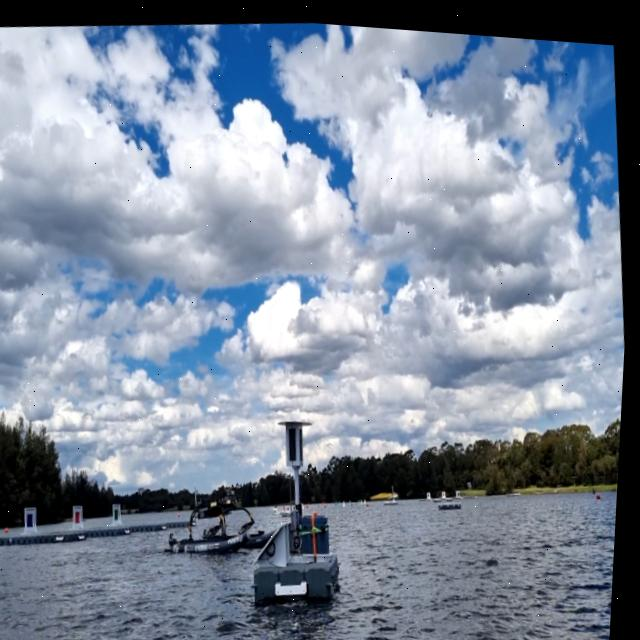led: (289, 421, 305, 459)
